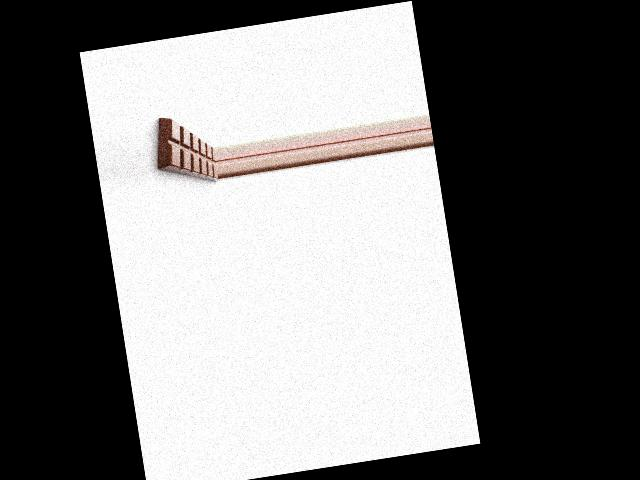chocolate: (148, 110, 218, 194)
